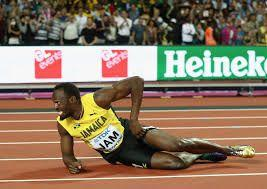down: (43, 73, 261, 176)
